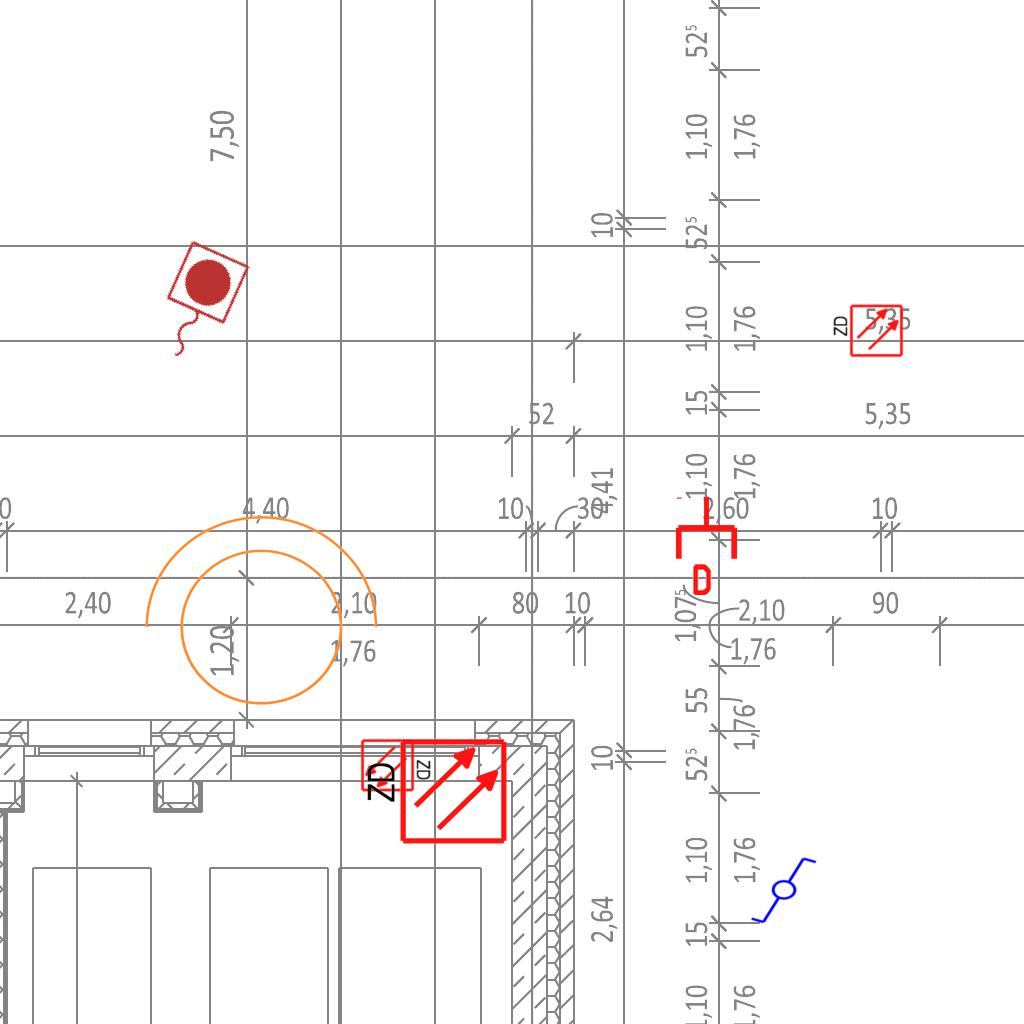Datenanschluss_einfach: (672, 495, 741, 595)
Scheinwerfer_fuer_Alarmbeleuchtung: (123, 505, 387, 730)
Wechselschalter: (749, 855, 827, 927)
ZD_Melder_in_Zwischendecke_mit_Revisionsoeffnung_mind_40_x_40_cm: (360, 736, 509, 850), (830, 303, 904, 360), (360, 736, 434, 793)
Zugtaster: (139, 234, 255, 376)
